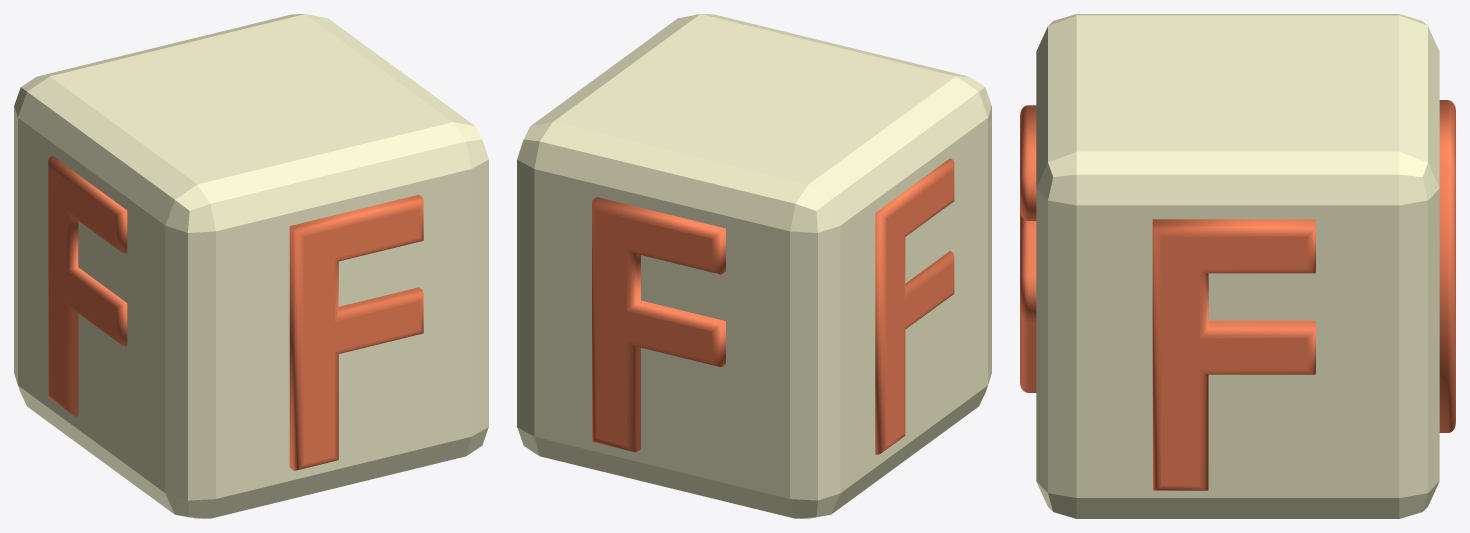
3 renders of one model, left to right at view 1: azimuth 30°, elevation 25°; view 2: azimuth 150°, elevation 25°; view 3: azimuth 270°, elevation 25°, orthographic. The views are drawn at different scales.
Visible parts, largest first — view 1: F; view 2: F; view 3: F.
Boxes of the visible parts, x1=… form: F: x1=14, y1=14, x2=488, y2=518; F: x1=517, y1=14, x2=991, y2=518; F: x1=1020, y1=14, x2=1455, y2=518.
Bounding box in the file's own units: 216 × 200 × 216.
